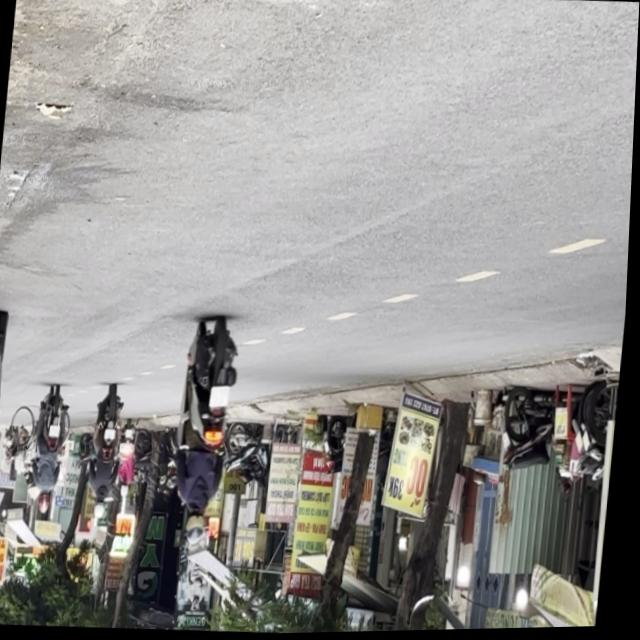helmet: (190, 508, 215, 547)
licenseplate: (170, 319, 246, 549)
nohelmet: (214, 385, 233, 411)
